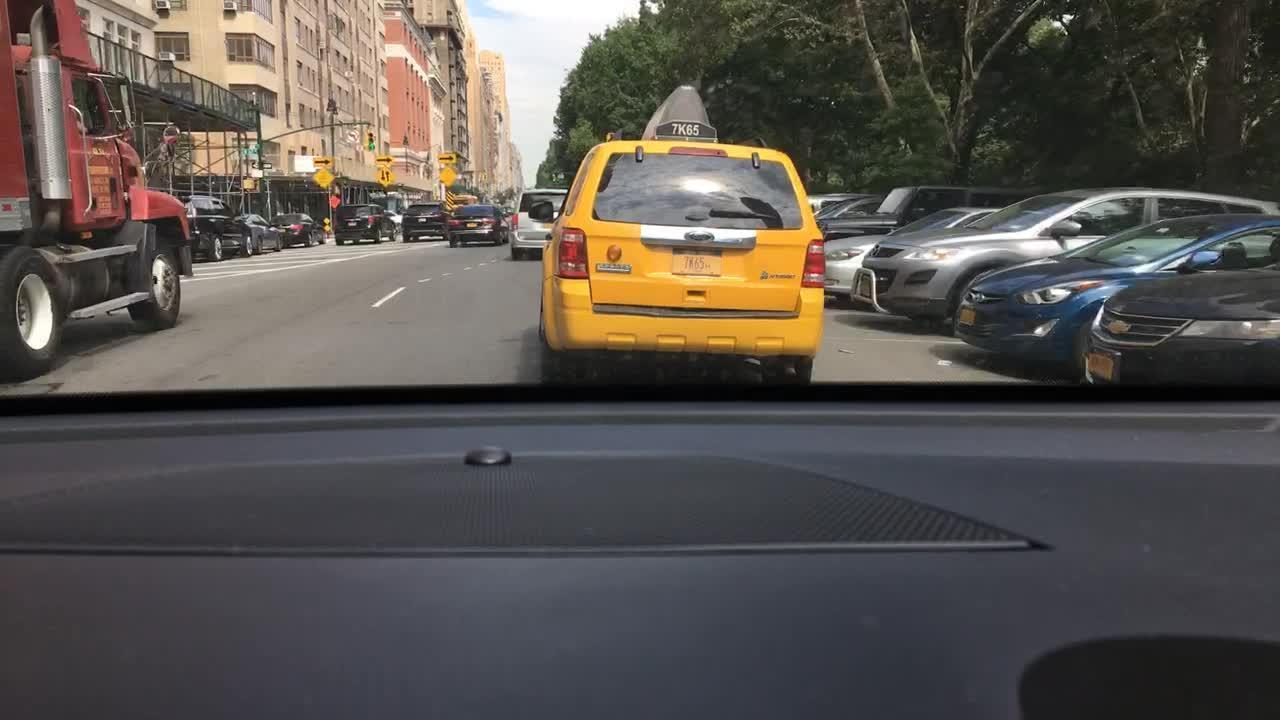ford: (684, 229, 718, 243)
